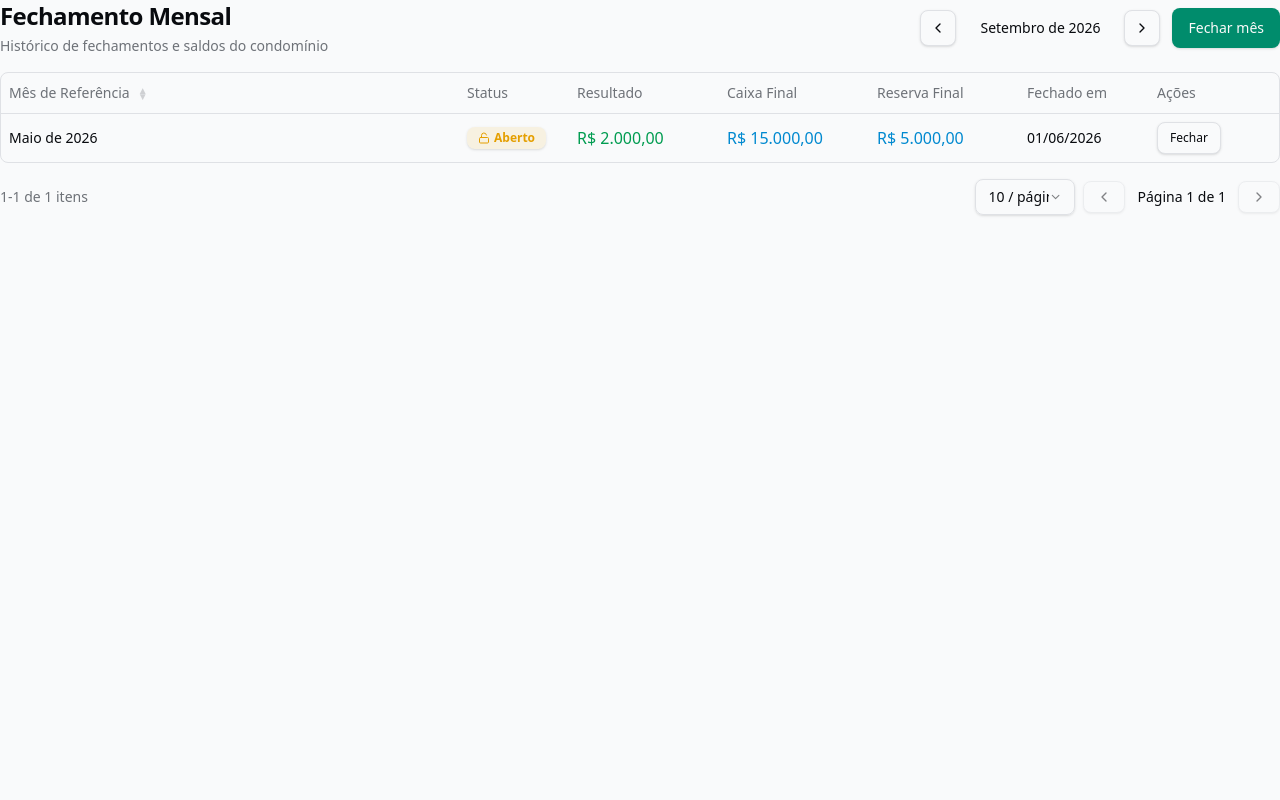
Test: MonthClosePage › opens confirm dialog when clicking close
Click the button "Fechar" at (1189, 138), box [1157,122,1221,154]
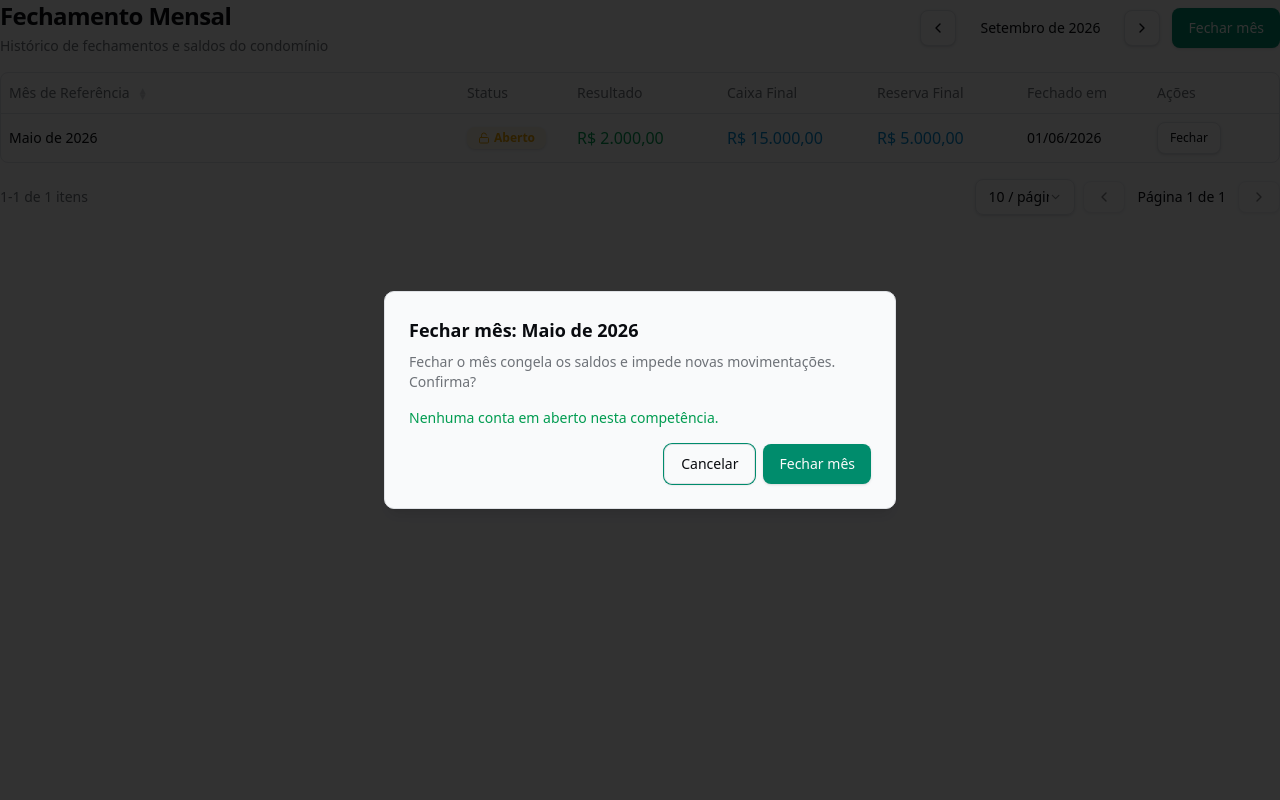
Now the text "Fechar o mês congela" is shown, box [409,352,835,391]
